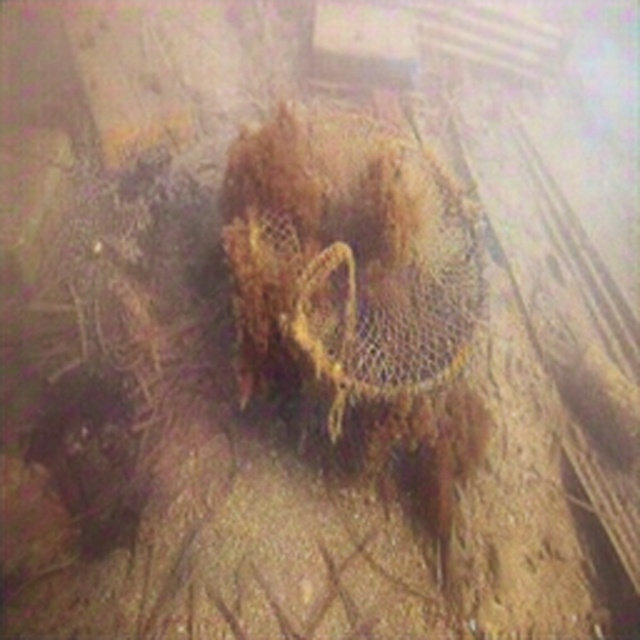mine: (245, 112, 491, 489)
